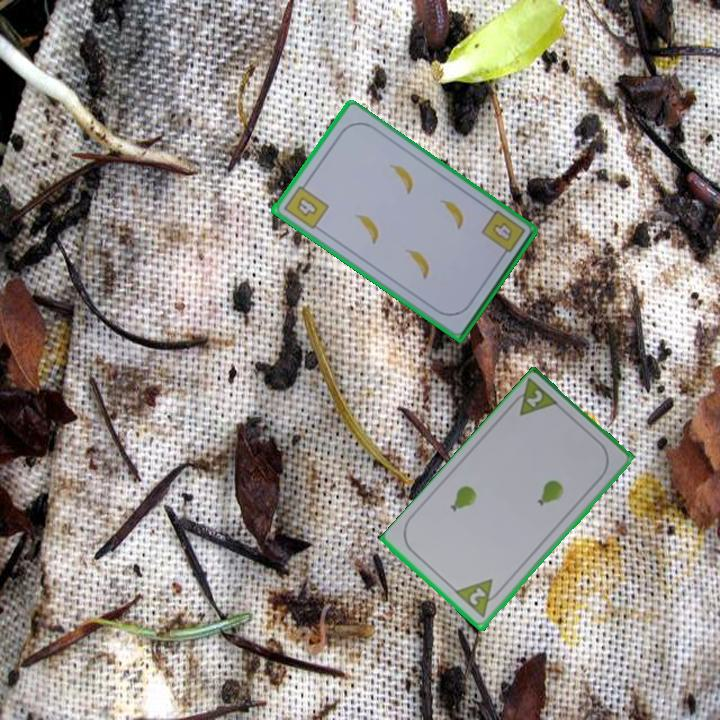2p: (505, 376, 563, 419), (452, 575, 506, 621)
4b: (279, 178, 331, 232), (488, 218, 515, 245)
